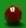brown: (0, 0, 26, 28)
